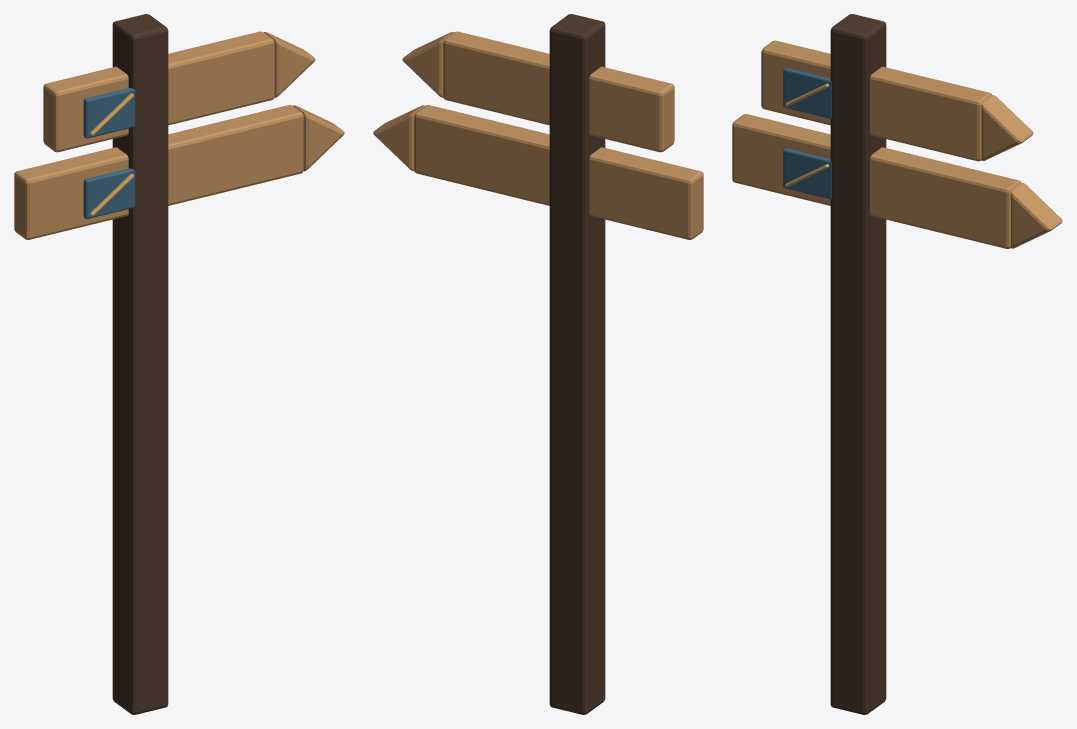
Rendered from road_signpost.glb.
3 renders of one model, left to right at view 1: azimuth 30°, elevation 25°; view 2: azimuth 150°, elevation 25°; view 3: azimuth 330°, elevation 25°, orthographic.
Parts seen in each view (by area): view 1: road_signpost__structure, road_signpost__finish; view 2: road_signpost__structure; view 3: road_signpost__structure, road_signpost__finish.
Part boxes in pixels (left/top/right/bottom): road_signpost__structure: left=14, top=14, right=344, bottom=714; road_signpost__finish: left=83, top=88, right=135, bottom=218; road_signpost__structure: left=373, top=14, right=703, bottom=714; road_signpost__structure: left=732, top=14, right=1062, bottom=714; road_signpost__finish: left=783, top=68, right=831, bottom=199.
Size of the model in its own units: 1.2 by 2.45 by 0.1535.
